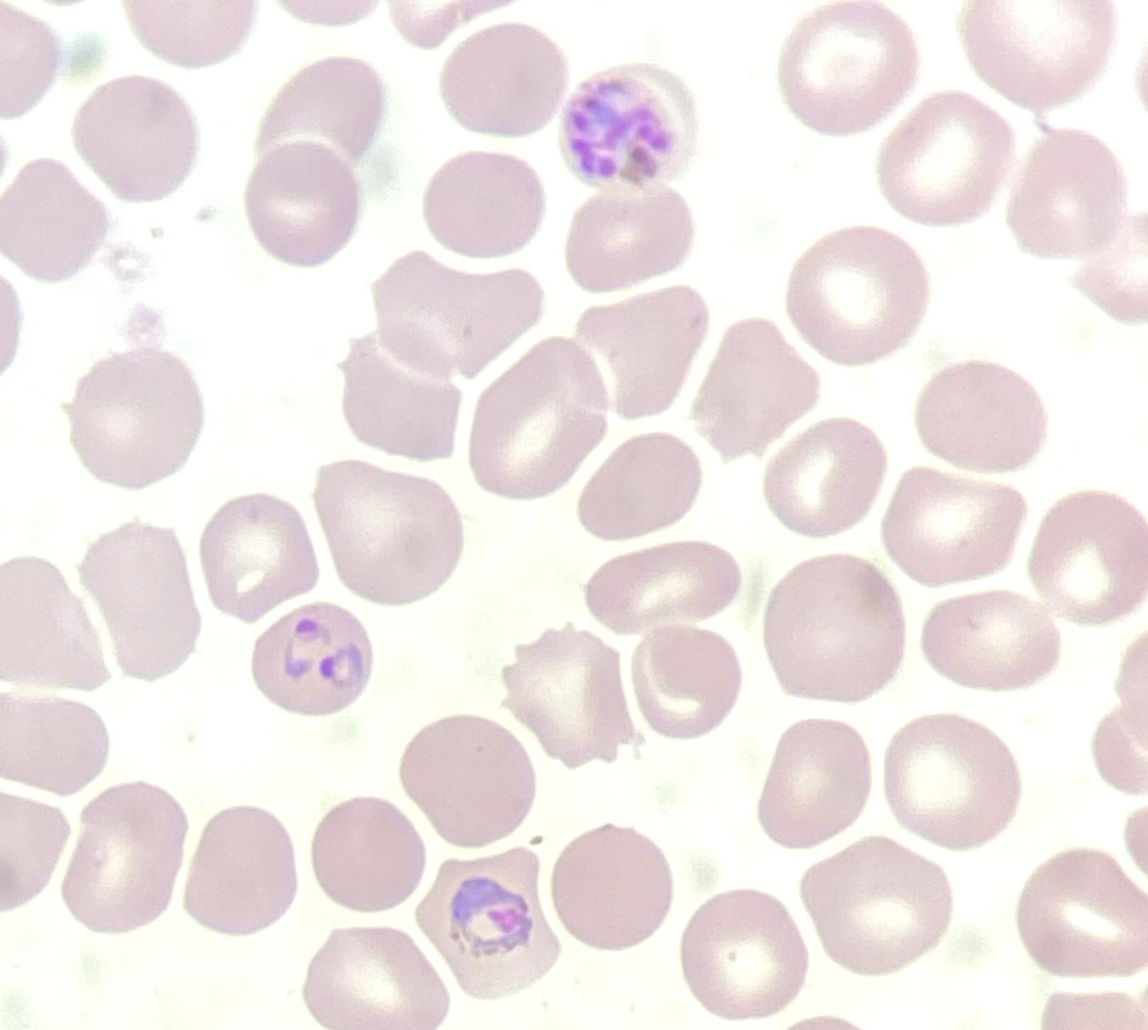Infected: (417, 846, 561, 998), (559, 65, 691, 189), (250, 601, 371, 718)
Uninfected: (372, 249, 542, 384), (465, 339, 607, 497), (312, 460, 463, 606), (787, 230, 933, 373), (762, 555, 905, 699), (798, 837, 947, 974), (74, 523, 201, 680), (60, 782, 188, 933), (65, 349, 203, 485), (500, 624, 636, 762), (778, 1, 916, 132), (574, 285, 706, 421), (876, 92, 1011, 223), (1013, 849, 1148, 980), (398, 718, 533, 849), (883, 717, 1015, 848), (690, 320, 816, 457), (677, 890, 806, 1021), (882, 468, 1026, 585), (73, 74, 201, 203), (1026, 489, 1148, 623), (1006, 126, 1127, 260), (962, 1, 1108, 112), (337, 336, 463, 464), (548, 823, 670, 950), (242, 140, 363, 266), (183, 804, 298, 936), (0, 555, 108, 695), (199, 494, 317, 622), (586, 540, 738, 639), (912, 360, 1045, 473), (756, 719, 871, 849), (438, 22, 567, 137), (302, 927, 445, 1030), (760, 419, 884, 535), (258, 55, 386, 167), (575, 431, 703, 542), (562, 183, 692, 289), (921, 590, 1057, 691), (422, 149, 546, 259), (0, 157, 106, 284), (310, 799, 424, 914), (629, 623, 741, 740)
